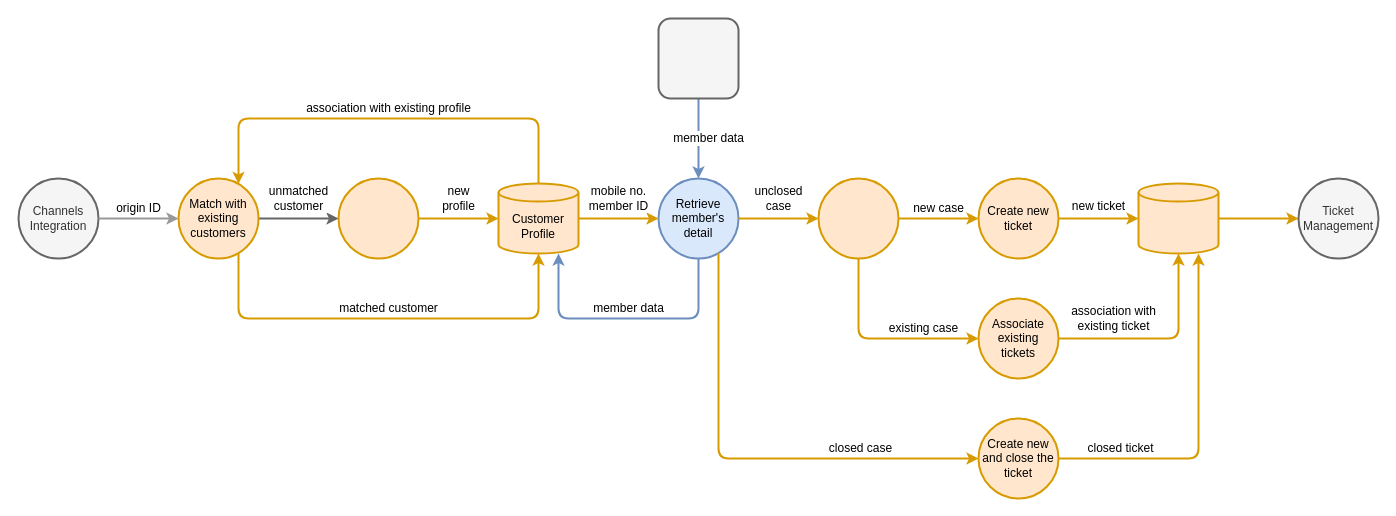
The diagram is 1396 pixels wide and 516 high, and some of its shapes have lost their labels. The shapes that lost their labels are listed below. From the top down, each one's box as (x1, y1, x2, y2) in pixels, then its label:
(657, 17, 739, 99): CDC
(337, 177, 419, 259): Create new customer
(817, 177, 899, 259): Show customer data
(1137, 182, 1219, 254): Tickets
